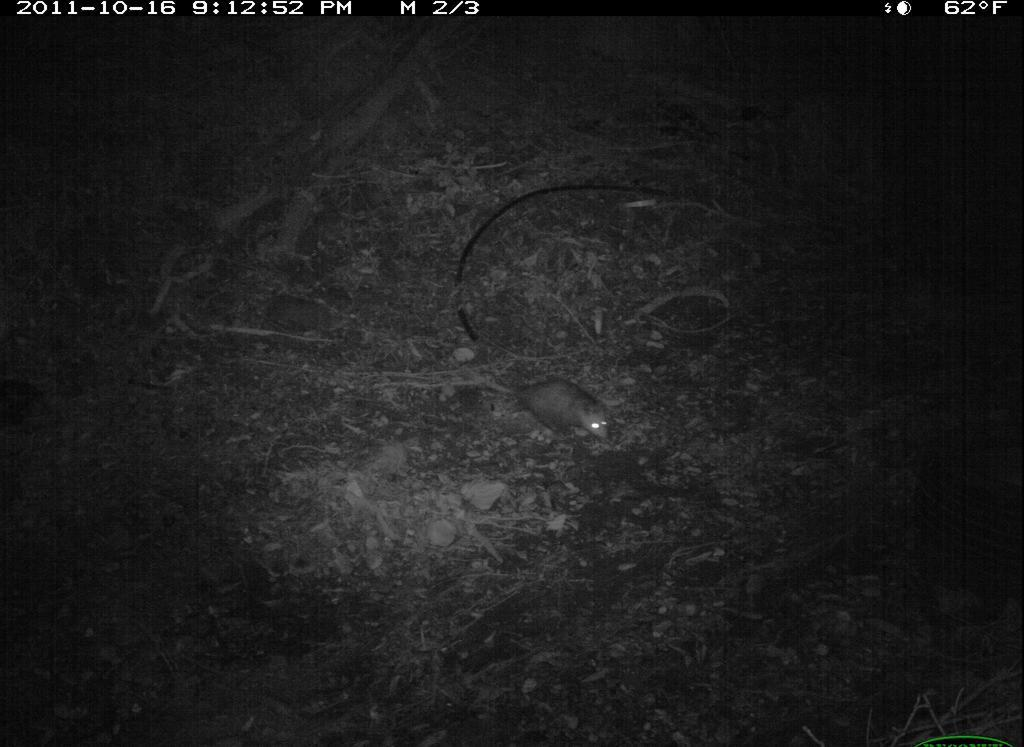opossum: (497, 353, 629, 461)
